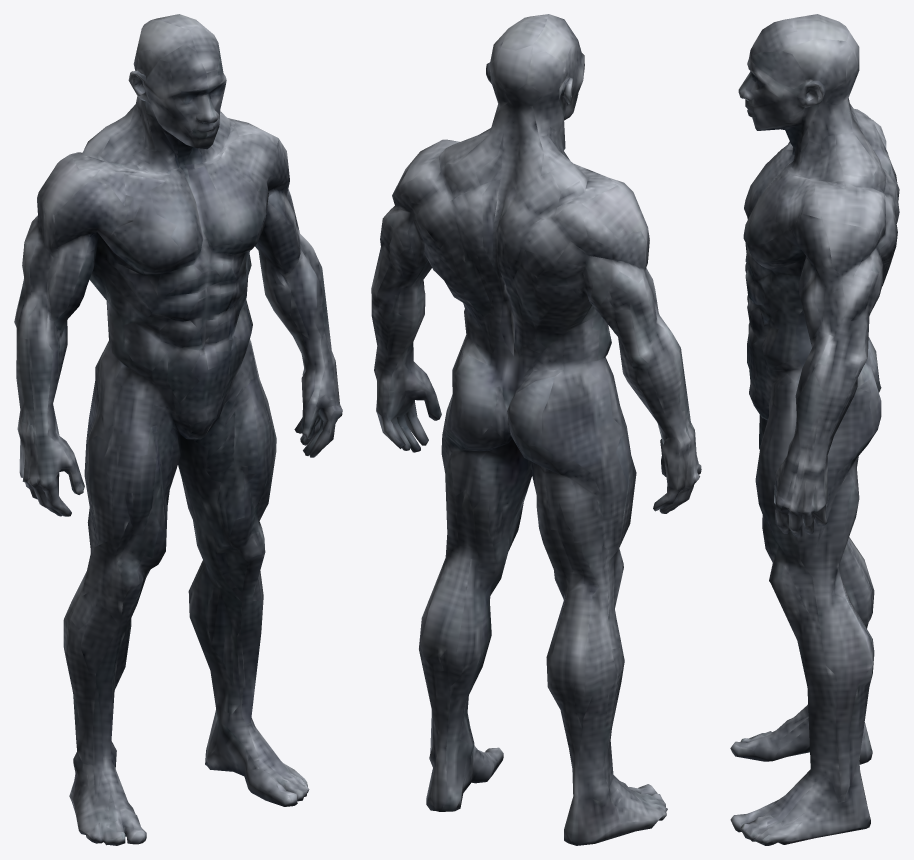
File: humanoid+3d+model-low.glb
The picture shows the model from 3 angles, left to right: view 1: azimuth 30°, elevation 25°; view 2: azimuth 150°, elevation 25°; view 3: azimuth 270°, elevation 25°; orthographic projection.
Visible parts, largest first — view 1: tripo_node_90bb7f0e-585d-4687-9f8a-162197c8fb27; view 2: tripo_node_90bb7f0e-585d-4687-9f8a-162197c8fb27; view 3: tripo_node_90bb7f0e-585d-4687-9f8a-162197c8fb27.
Boxes of the visible parts, bbox=[...] form: tripo_node_90bb7f0e-585d-4687-9f8a-162197c8fb27: bbox=[14, 14, 342, 845]; tripo_node_90bb7f0e-585d-4687-9f8a-162197c8fb27: bbox=[371, 14, 701, 845]; tripo_node_90bb7f0e-585d-4687-9f8a-162197c8fb27: bbox=[730, 14, 899, 845].
Bounding box in the file's own units: 0.4073 × 0.9773 × 0.1931.
1 material, 1 textured.
